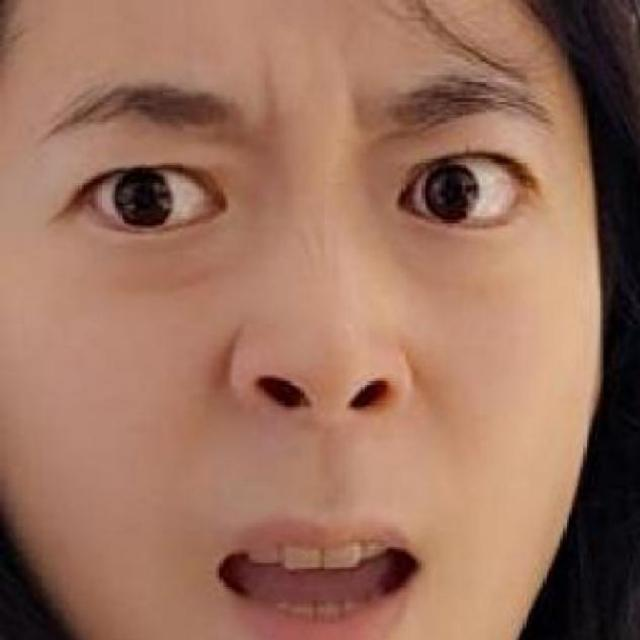angry: (32, 43, 640, 640)
